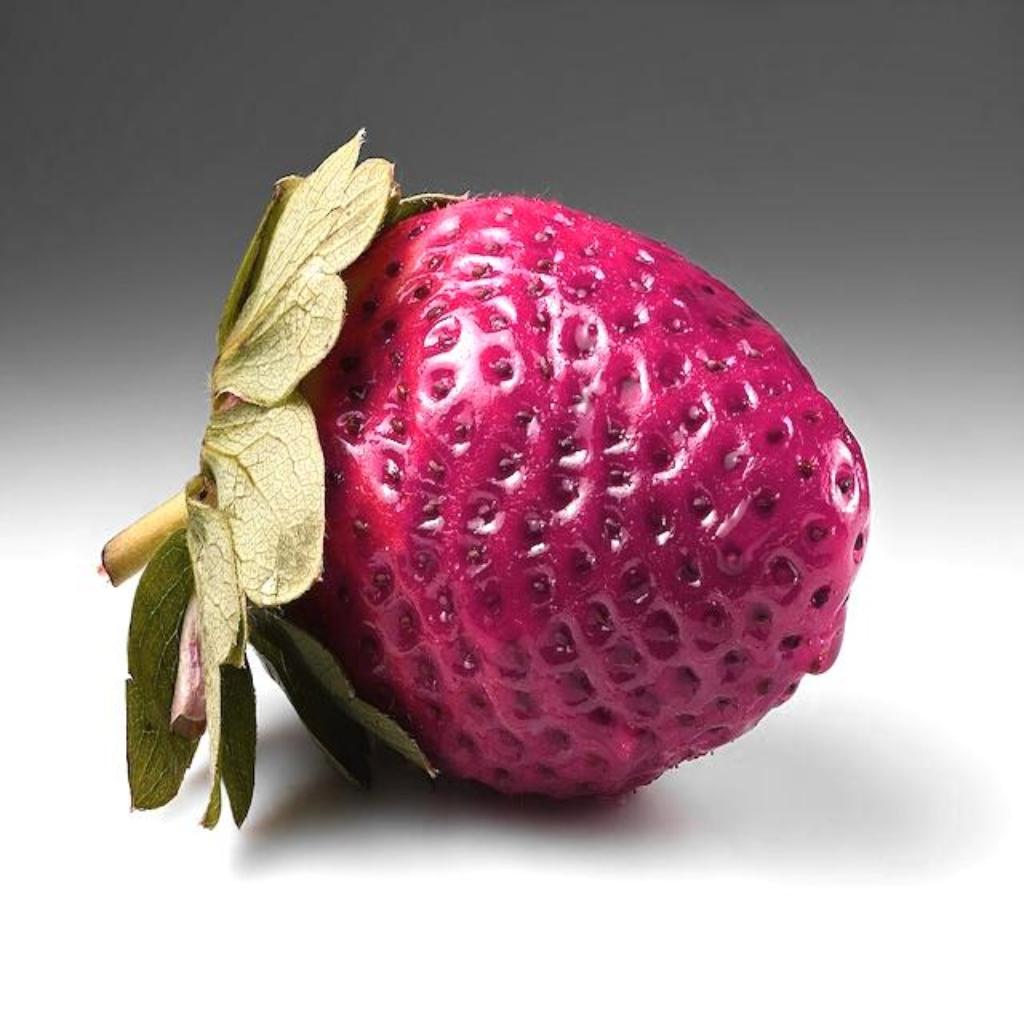strawberry: (104, 134, 868, 825)
